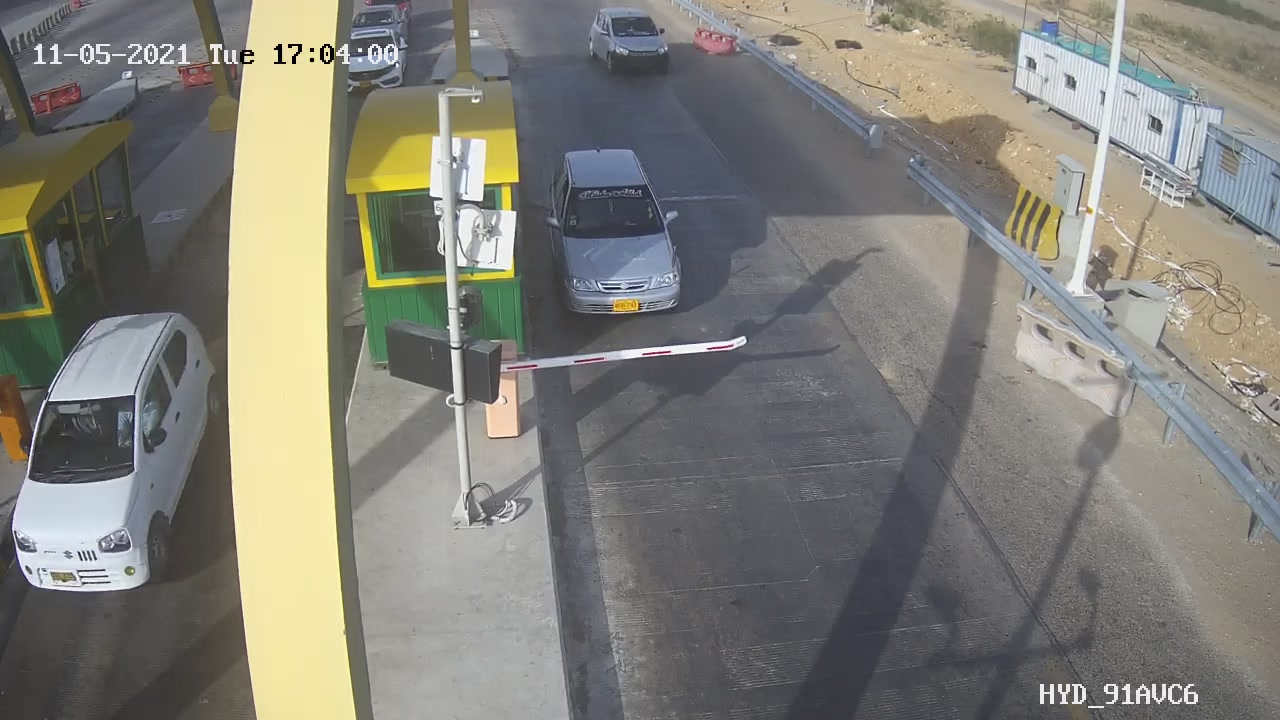F1: (529, 130, 705, 338), (578, 4, 683, 91)
